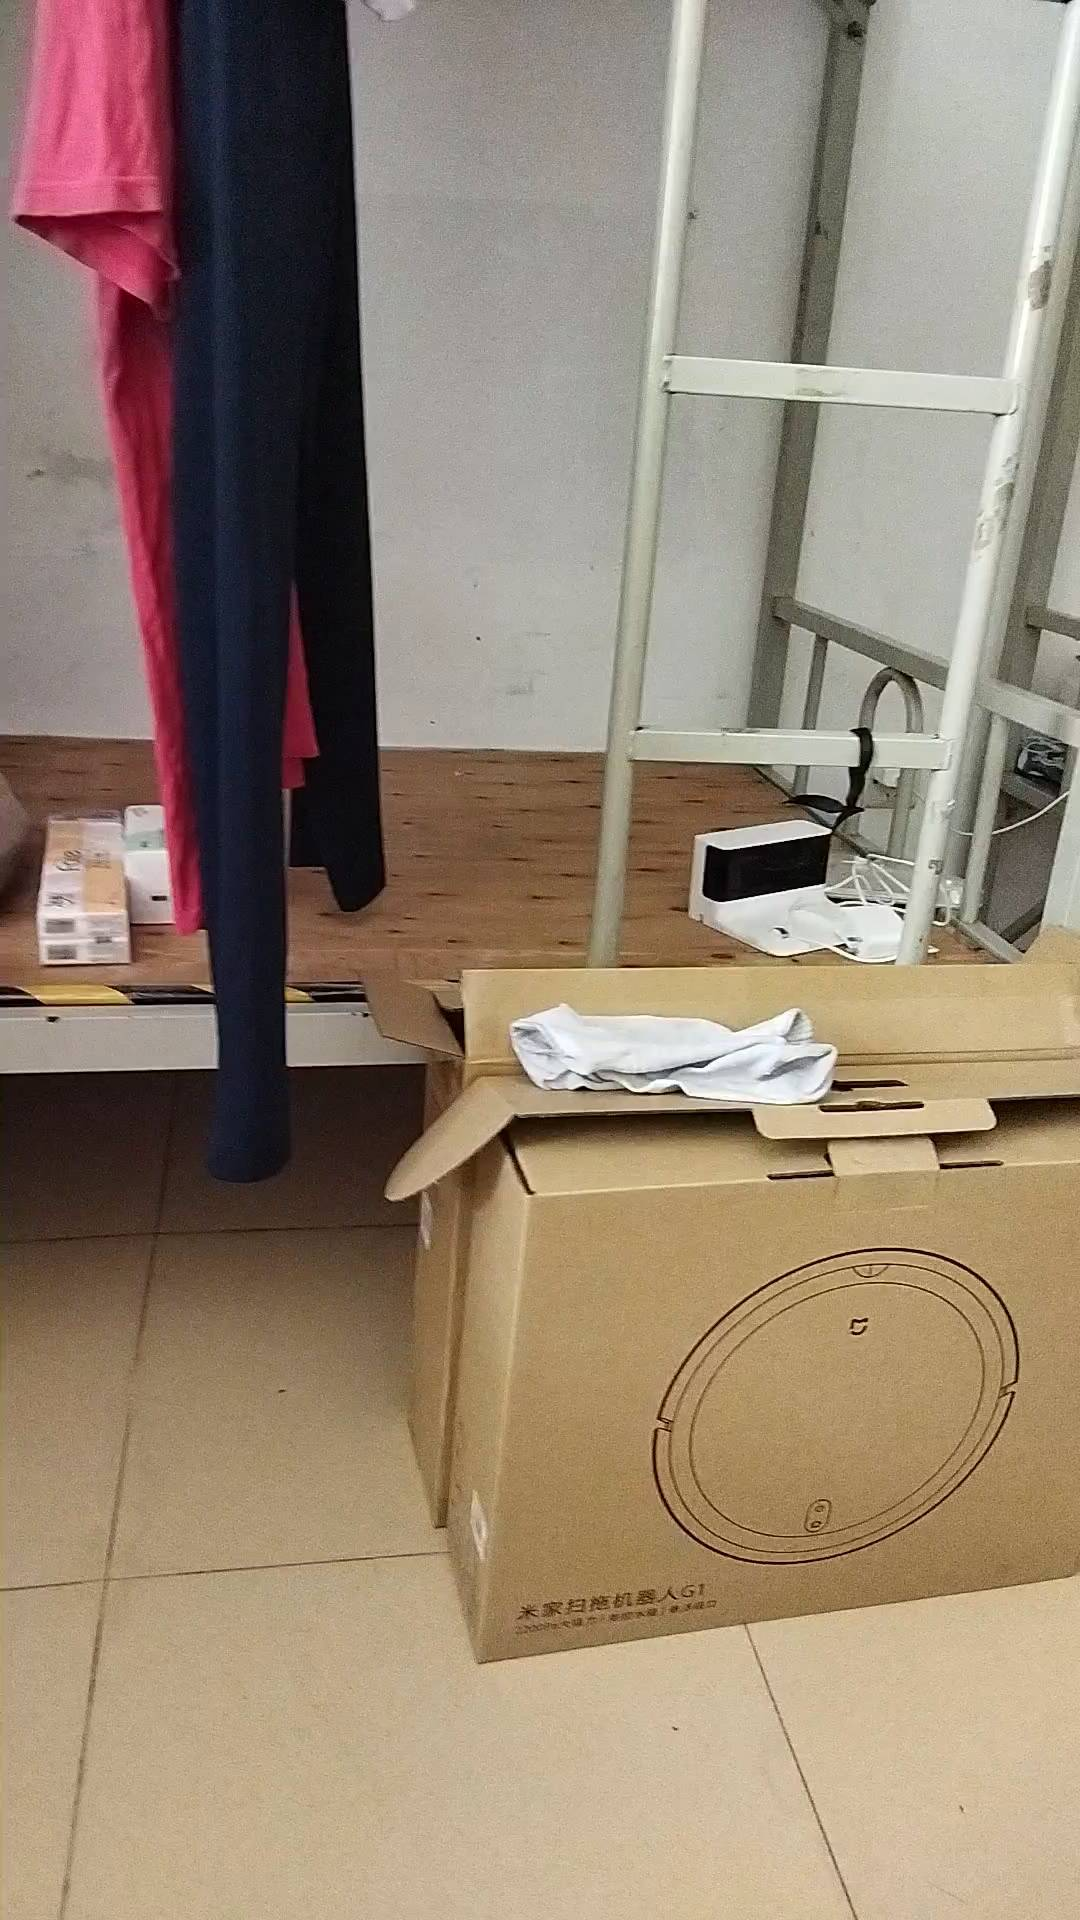recharge seat: (686, 822, 861, 956)
